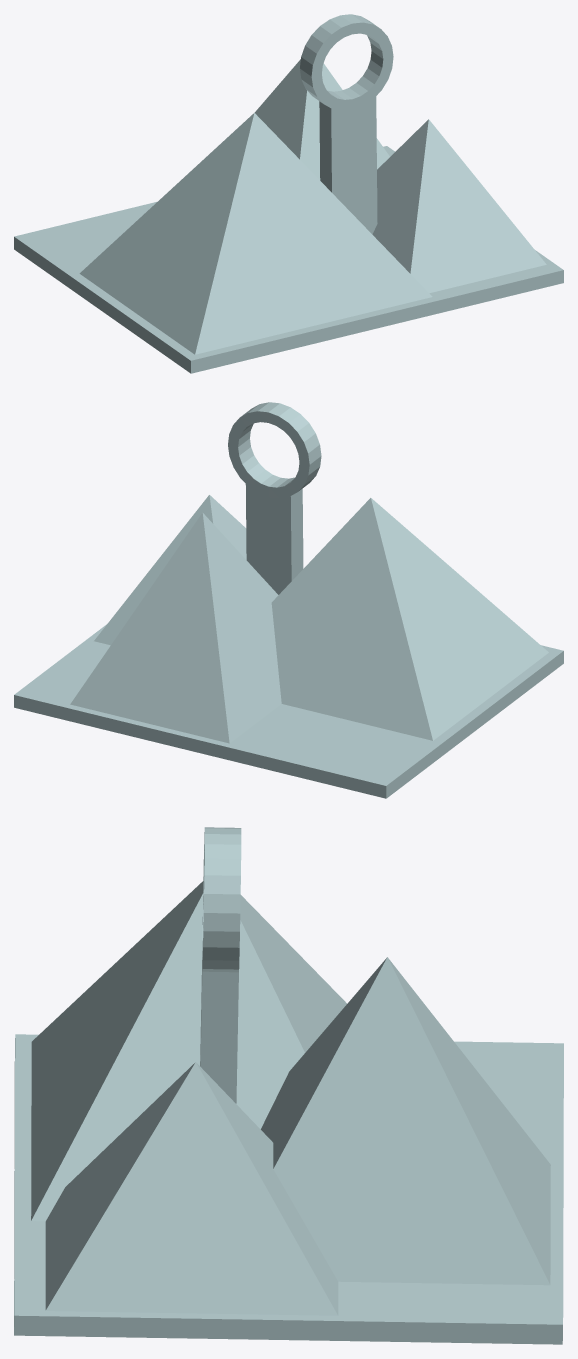
The model's file is Fantastic Gaaris-Hango.glb.
3 views of the same model, one above another, from view 1: azimuth 30°, elevation 25°; view 2: azimuth 150°, elevation 25°; view 3: azimuth 270°, elevation 25° (orthographic). The views are drawn at different scales.
Visible parts, largest first — view 1: Mesh_Mesh_head_geo.001_lambert2SG.001; view 2: Mesh_Mesh_head_geo.001_lambert2SG.001; view 3: Mesh_Mesh_head_geo.001_lambert2SG.001.
Part boxes in pixels (x1,y1,x2,y2): Mesh_Mesh_head_geo.001_lambert2SG.001: (14,14,563,373); Mesh_Mesh_head_geo.001_lambert2SG.001: (14,402,563,798); Mesh_Mesh_head_geo.001_lambert2SG.001: (14,827,563,1344).
Size of the model in its own units: 45.55 by 29.93 by 37.58.
